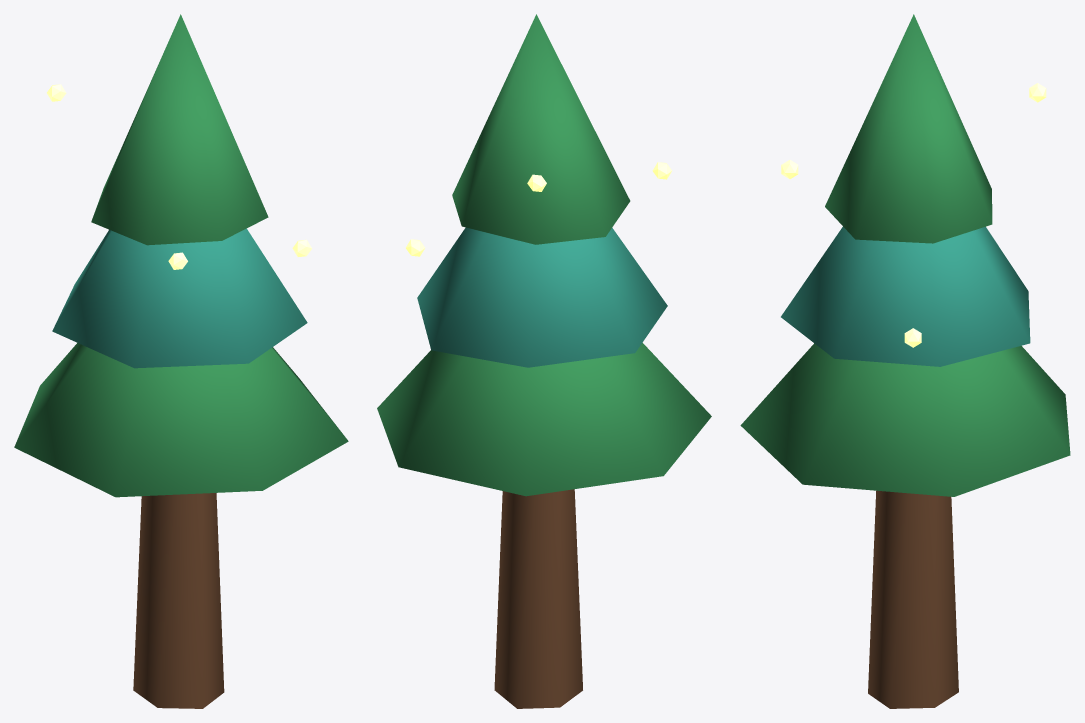
Rendered from stage1_tree_02.glb.
3 views of the same model, side by side, from view 1: azimuth 30°, elevation 25°; view 2: azimuth 150°, elevation 25°; view 3: azimuth 270°, elevation 25° (orthographic).
Visible parts, largest first — view 1: canopy_leaf2, canopy_leafTeal, stage1_tree_02_bark, canopy_firefly; view 2: canopy_leaf2, canopy_leafTeal, stage1_tree_02_bark, canopy_firefly; view 3: canopy_leaf2, canopy_leafTeal, stage1_tree_02_bark, canopy_firefly.
Boxes of the visible parts, <box> form: canopy_leaf2: <box>14,14,348,497</box>; canopy_leafTeal: <box>52,228,307,368</box>; stage1_tree_02_bark: <box>133,493,224,708</box>; canopy_firefly: <box>47,84,312,269</box>; canopy_leaf2: <box>377,14,711,496</box>; canopy_leafTeal: <box>417,227,667,367</box>; stage1_tree_02_bark: <box>494,489,582,708</box>; canopy_firefly: <box>406,162,672,256</box>; canopy_leaf2: <box>740,14,1070,496</box>; canopy_leafTeal: <box>781,226,1030,366</box>; stage1_tree_02_bark: <box>868,490,958,708</box>; canopy_firefly: <box>781,83,1046,347</box>.
Size of the model in its own units: 1.16 by 2.63 by 1.16.
